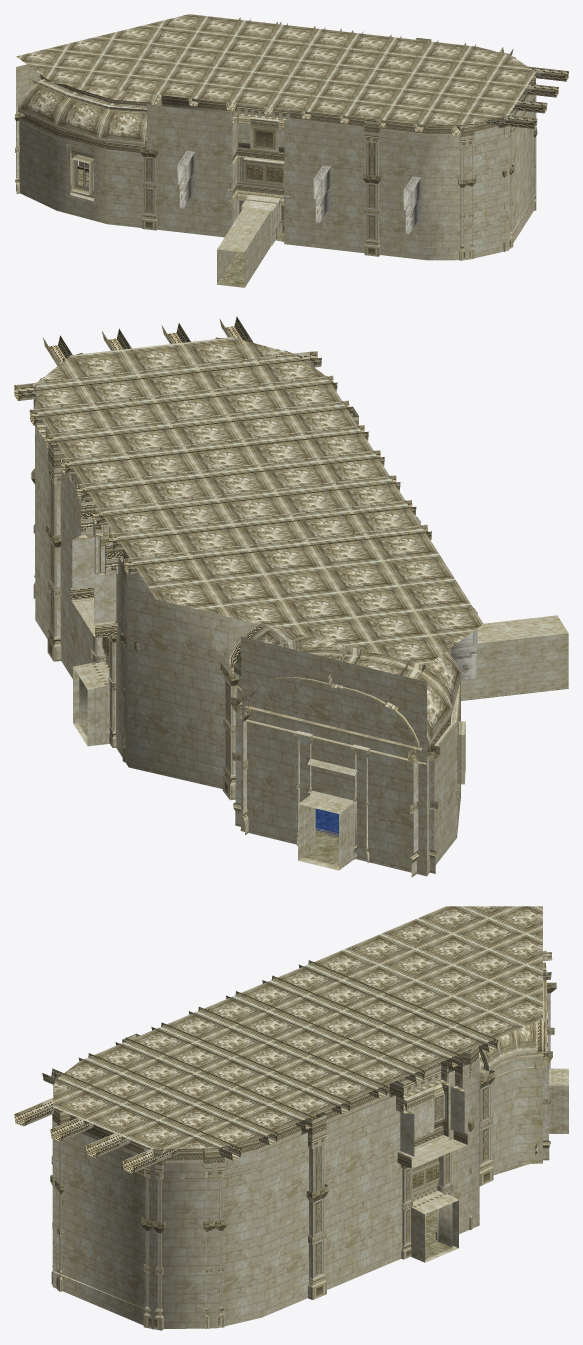
3 renders of one model, top to bottom at view 1: azimuth 30°, elevation 25°; view 2: azimuth 150°, elevation 25°; view 3: azimuth 270°, elevation 25°, orthographic. The views are drawn at different scales.
Visible parts, largest first — view 1: Shape 2, Shape 1, Shape 0, Shape 4, Shape 14, Shape 8, Shape 7, Shape 6, Shape 5, Shape 10, Shape 9; view 2: Shape 1, Shape 2, Shape 0, Shape 8, Shape 4, Shape 7, Shape 9, Shape 14, Shape 10; view 3: Shape 2, Shape 1, Shape 0, Shape 4, Shape 8, Shape 7, Shape 9, Shape 10, Shape 5, Shape 6.
Boxes of the visible parts, x1,y1,x2,y2 form: Shape 2: (16, 64, 536, 287); Shape 1: (16, 14, 535, 142); Shape 0: (14, 17, 568, 260); Shape 4: (15, 98, 536, 259); Shape 14: (177, 146, 428, 233); Shape 8: (16, 117, 534, 257); Shape 7: (145, 142, 463, 244); Shape 6: (144, 125, 512, 260); Shape 5: (243, 159, 283, 187); Shape 10: (78, 169, 284, 287); Shape 9: (15, 112, 537, 187); Shape 1: (35, 337, 483, 741); Shape 2: (35, 425, 568, 876); Shape 0: (14, 316, 461, 877); Shape 8: (56, 484, 435, 874); Shape 4: (34, 426, 465, 862); Shape 7: (50, 479, 229, 773); Shape 9: (31, 468, 459, 764); Shape 14: (416, 516, 477, 679); Shape 10: (79, 688, 568, 865); Shape 2: (52, 1047, 568, 1329); Shape 1: (52, 906, 542, 1149); Shape 0: (14, 924, 554, 1330); Shape 4: (52, 1084, 549, 1329); Shape 8: (62, 993, 550, 1326); Shape 7: (59, 1084, 489, 1308); Shape 9: (50, 982, 556, 1233); Shape 10: (425, 1164, 529, 1259); Shape 5: (412, 1157, 439, 1194); Shape 6: (56, 1169, 491, 1329).
Size of the model in its own units: 4795 by 1545 by 4278.
